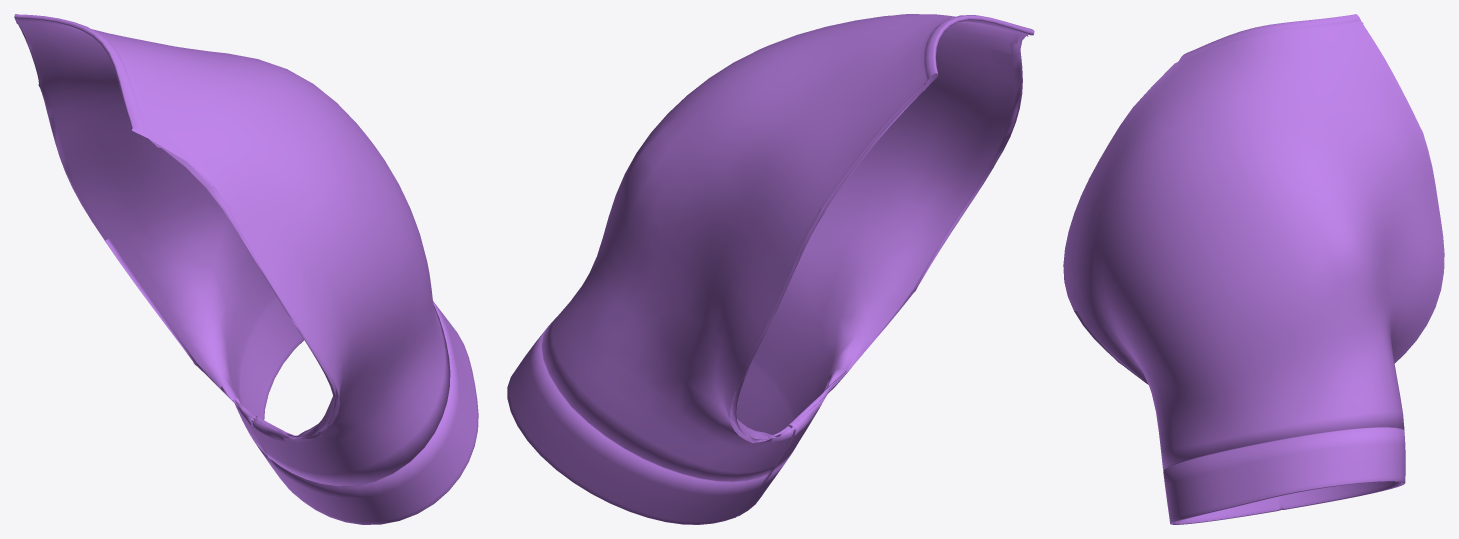
File: manga-L.glb
3 renders of one model, left to right at view 1: azimuth 30°, elevation 25°; view 2: azimuth 150°, elevation 25°; view 3: azimuth 270°, elevation 25°, orthographic. The views are drawn at different scales.
Parts seen in each view (by area): view 1: manga-L; view 2: manga-L; view 3: manga-L.
Boxes of the visible parts, x1,y1,x2,y2 form: manga-L: (14,14,478,524); manga-L: (507,14,1034,524); manga-L: (1063,14,1444,524).
Size of the model in its own units: 0.2294 by 0.275 by 0.229.
